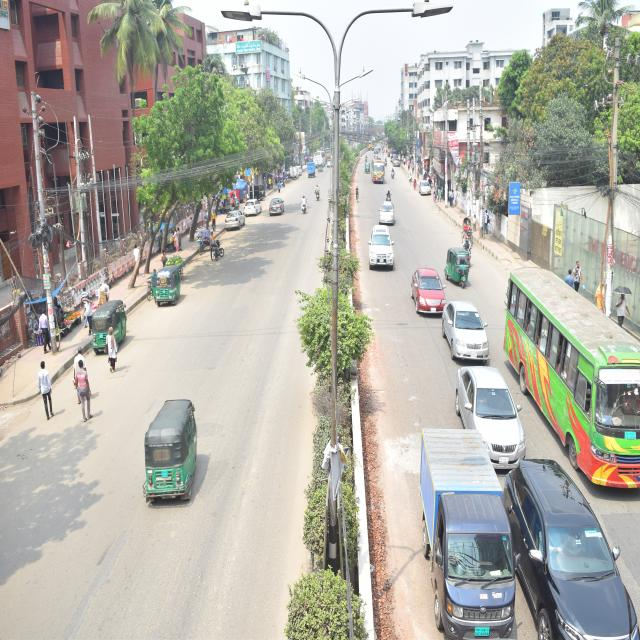bus: (492, 233, 640, 497), (370, 146, 384, 189), (322, 134, 332, 166), (315, 148, 325, 172)
car: (507, 427, 637, 640), (448, 349, 540, 476), (394, 232, 458, 328), (443, 288, 496, 358), (368, 224, 410, 293), (367, 194, 405, 247), (221, 202, 252, 243), (262, 183, 290, 226), (240, 189, 264, 222), (290, 159, 306, 187)
motorbike: (460, 232, 480, 280), (205, 220, 222, 262), (377, 183, 399, 204), (310, 182, 324, 207), (296, 192, 306, 219), (387, 160, 397, 177)
pickup-van: (388, 401, 534, 640), (306, 155, 325, 182)
